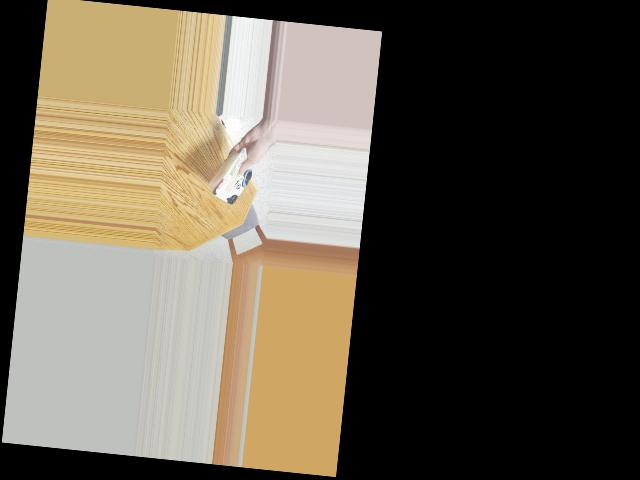cheese: (202, 153, 260, 204)
